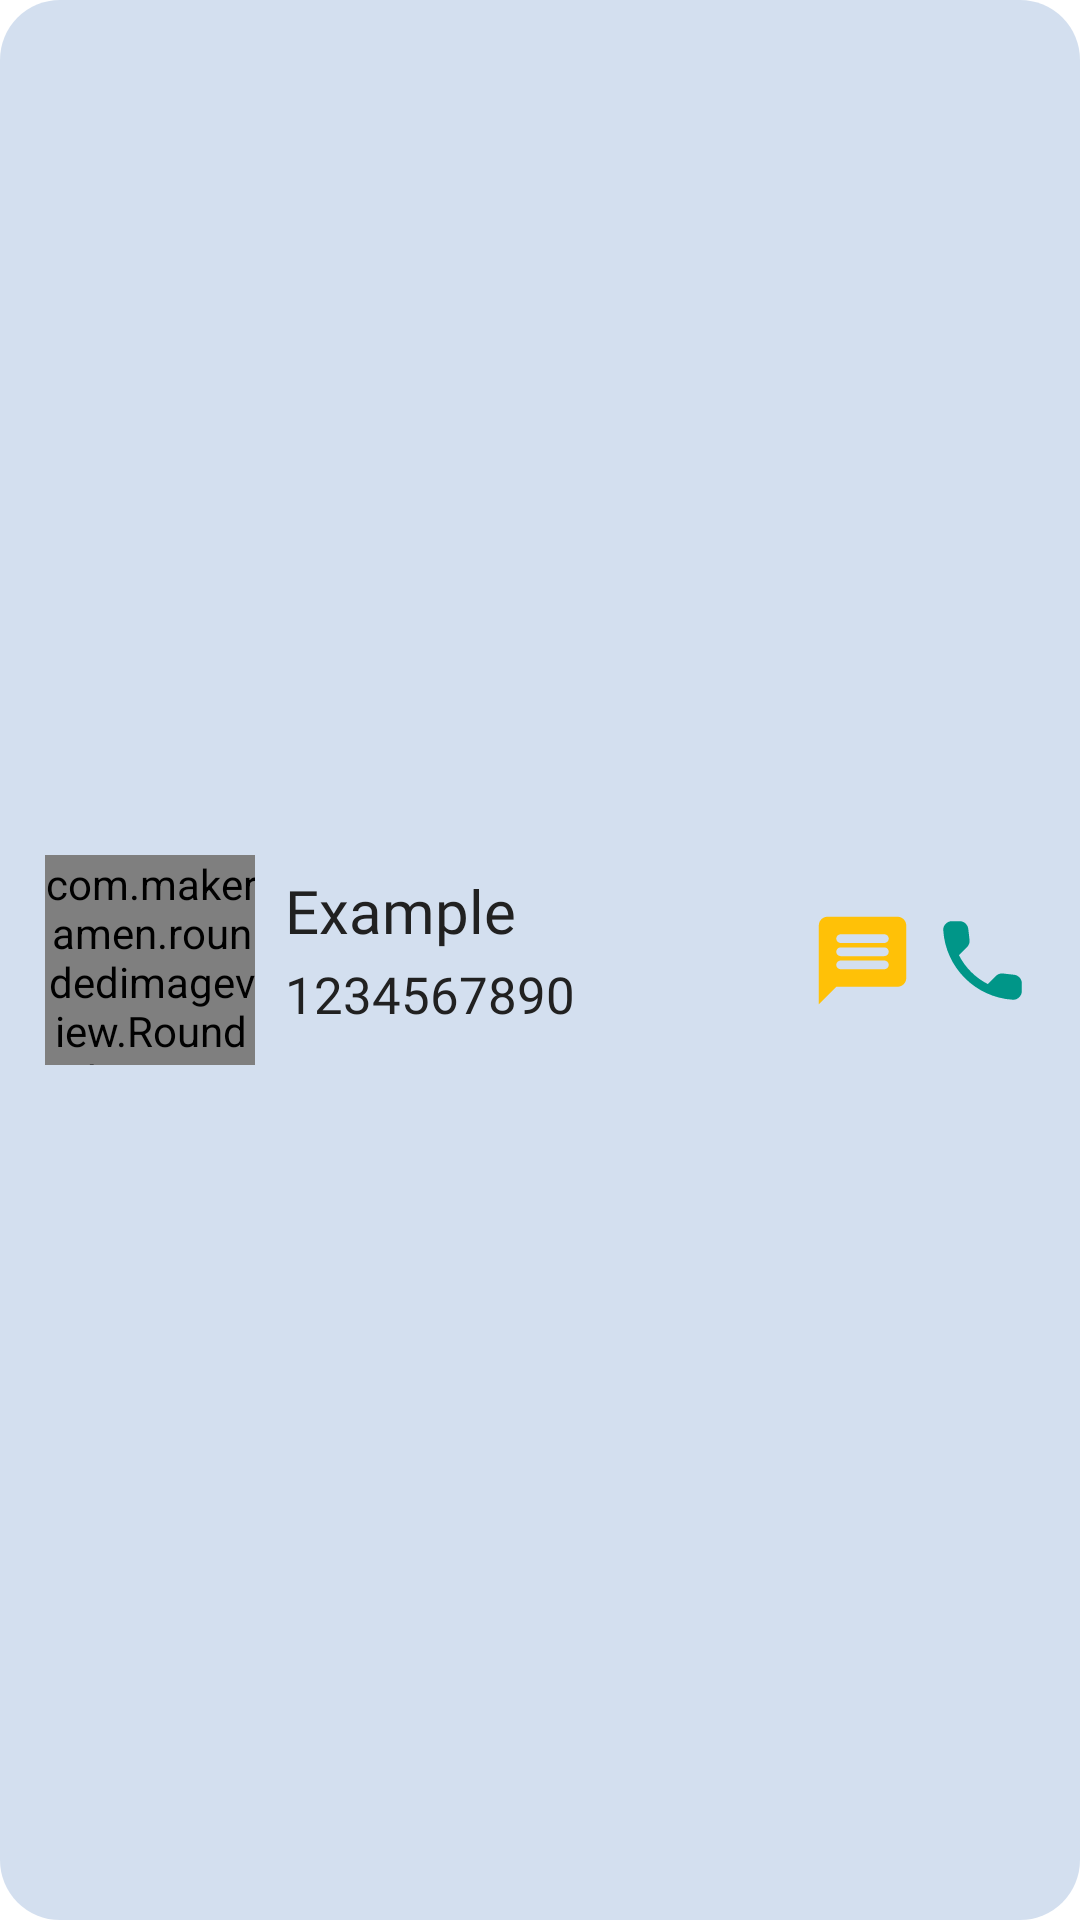

Icon bounding boxes for this 1080w x 1920h phone screenshot, format bbox=(x1, y1, x2, y2):
message: bbox=(818, 916, 907, 1004)
phone: bbox=(943, 921, 1022, 1000)
